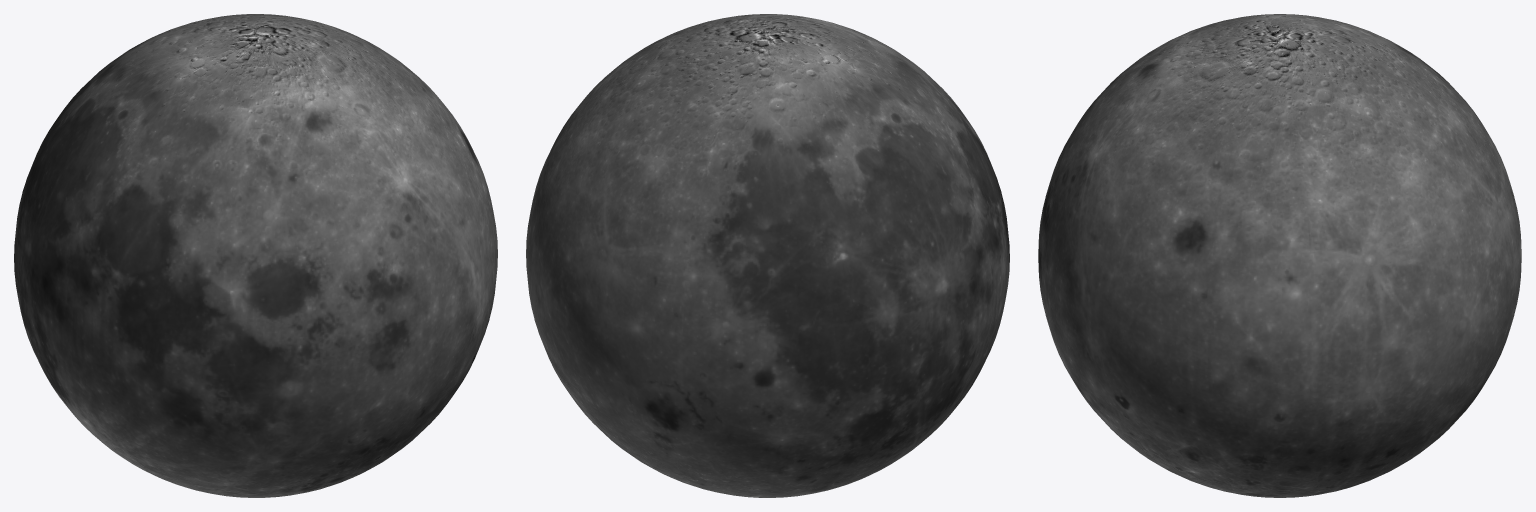
Rendered from Moon.dae.
3 views of the same model, side by side, from view 1: azimuth 30°, elevation 25°; view 2: azimuth 150°, elevation 25°; view 3: azimuth 270°, elevation 25° (orthographic).
Parts seen in each view (by area): view 1: pSphere1; view 2: pSphere1; view 3: pSphere1.
Boxes of the visible parts, left/top/right/bottom form: pSphere1: left=14, top=14, right=497, bottom=497; pSphere1: left=526, top=14, right=1009, bottom=497; pSphere1: left=1038, top=14, right=1521, bottom=497.
Size of the model in its own units: 15.52 by 15.52 by 15.49.
